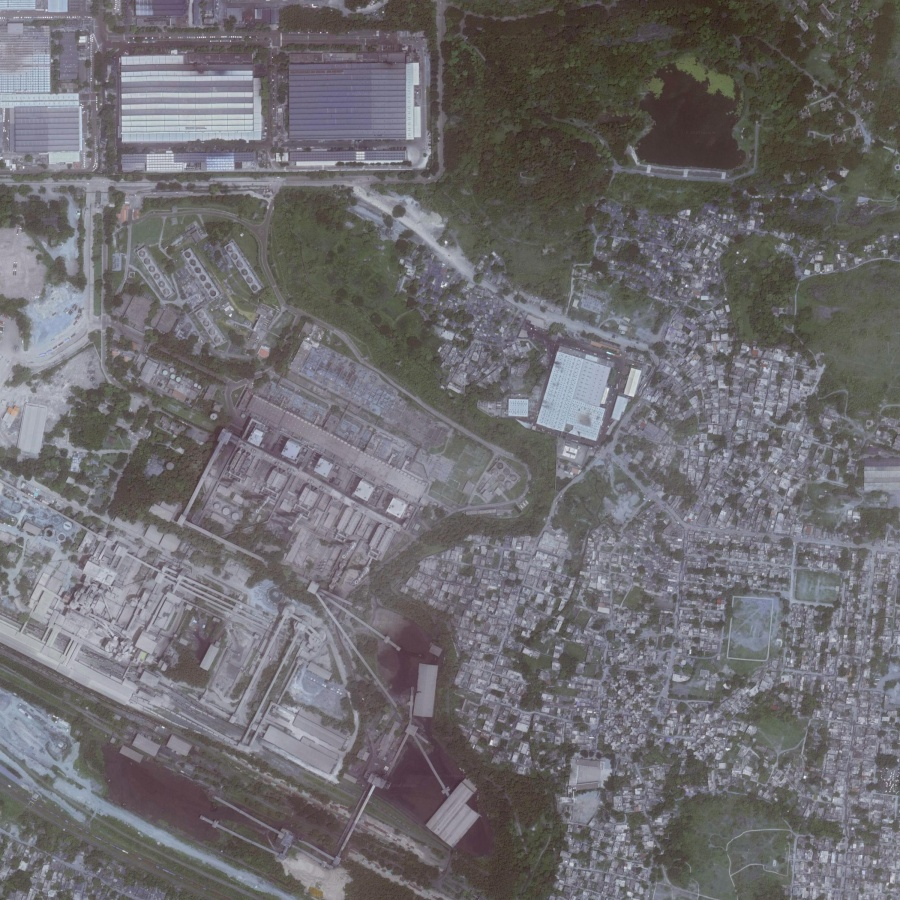PowerPlant: (23, 407, 529, 866)
